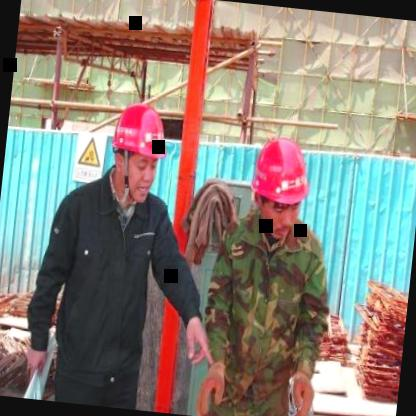helmet: (242, 126, 315, 243), (107, 96, 172, 206)
